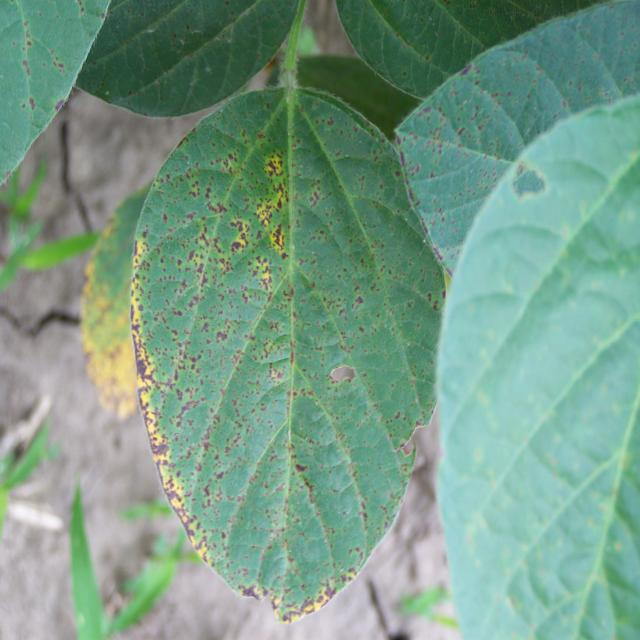Septoria: (138, 114, 418, 596)
